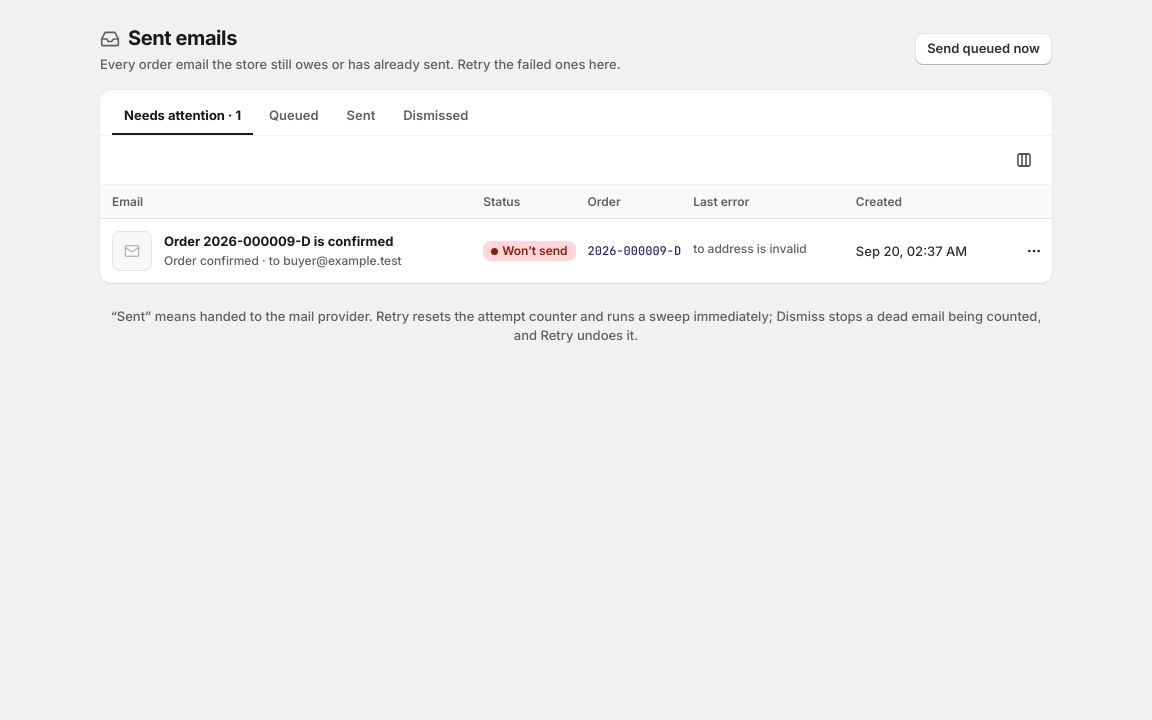
the detail view › shows the message text and the provider’s refusal
Expected: the text "Order 2026-000009-D is confirmed" is shown, [164,232,402,251]
Step 1. Click the button named "Actions for Order" → (1034, 251), box [1016,233,1052,269]
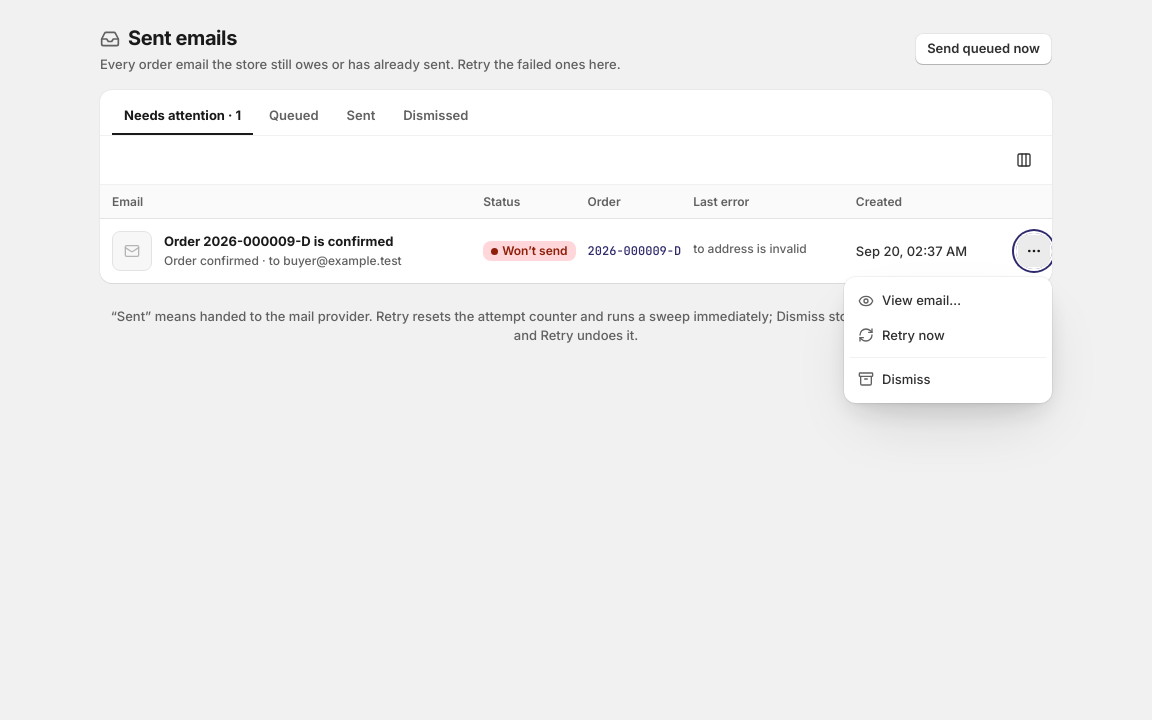
Step 2. Click the menu item "View email…" → (948, 300), box [850,283,1046,318]
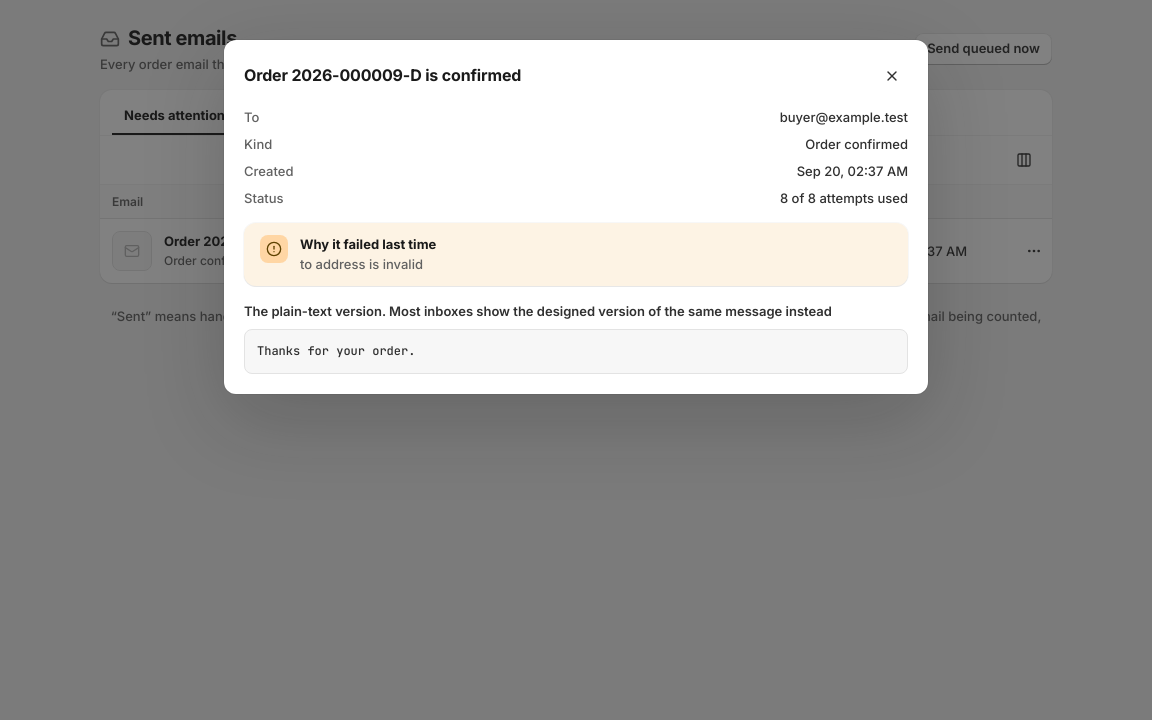
Expected: the text "Thanks for your order." is shown, [244,329,908,374]
Expected: the text "to address is invalid" is shown, [300,256,423,272]
Expected: the text "buyer@example.test" is shown, [780,108,908,127]
